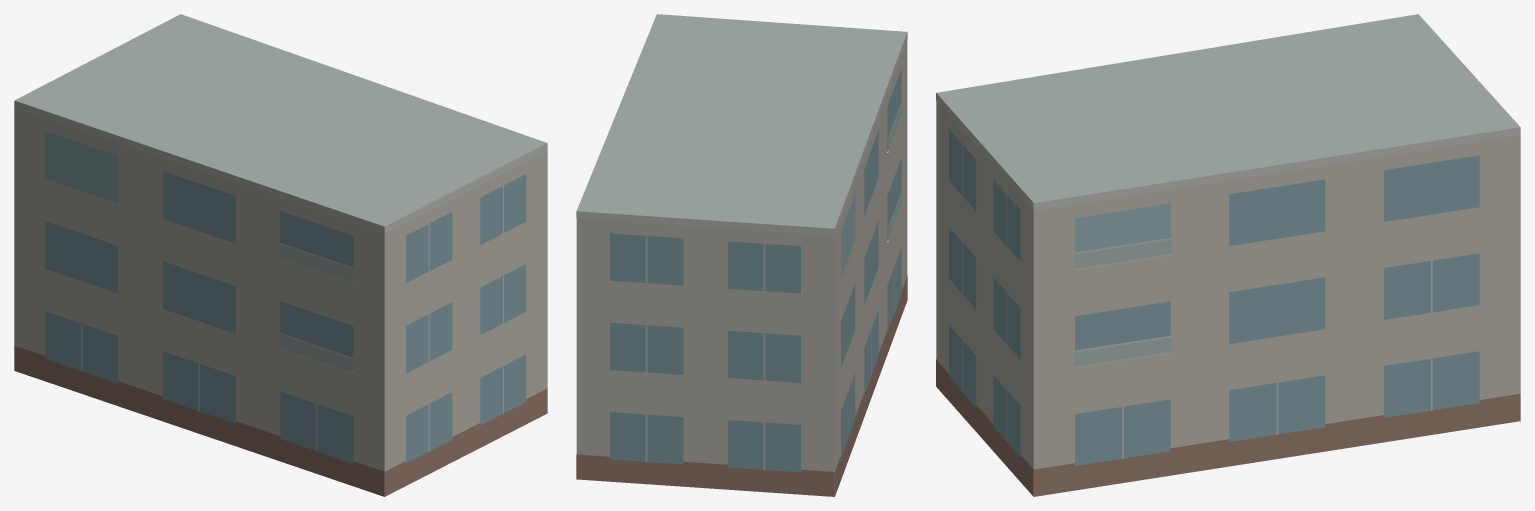
The model's file is survey-upis-32851359.glb.
3 views of the same model, side by side, from view 1: azimuth 30°, elevation 25°; view 2: azimuth 150°, elevation 25°; view 3: azimuth 270°, elevation 25° (orthographic). The views are drawn at different scales.
Visible parts, largest first — view 1: survey-upis-32851359.tmp; view 2: survey-upis-32851359.tmp; view 3: survey-upis-32851359.tmp.
Boxes of the visible parts, bbox=[...] form: survey-upis-32851359.tmp: bbox=[14, 14, 547, 496]; survey-upis-32851359.tmp: bbox=[576, 14, 907, 496]; survey-upis-32851359.tmp: bbox=[936, 14, 1520, 496].
Size of the model in its own units: 12.63 by 9.15 by 16.5.
